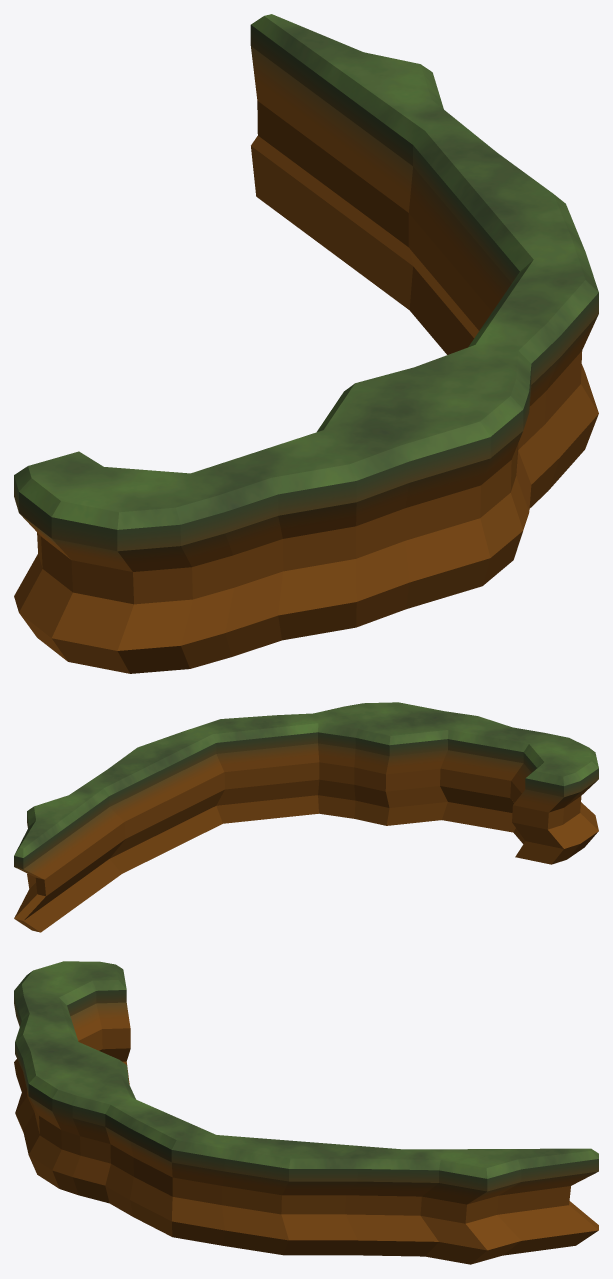
File: E7_Terreno_Lvl1_T.fbx
3 renders of one model, top to bottom at view 1: azimuth 30°, elevation 25°; view 2: azimuth 150°, elevation 25°; view 3: azimuth 270°, elevation 25°, orthographic. The views are drawn at different scales.
Visible parts, largest first — view 1: E7_modelosBlockout_nivel1; view 2: E7_modelosBlockout_nivel1; view 3: E7_modelosBlockout_nivel1.
Boxes of the visible parts, bbox=[...] form: E7_modelosBlockout_nivel1: bbox=[14, 14, 598, 673]; E7_modelosBlockout_nivel1: bbox=[14, 702, 598, 932]; E7_modelosBlockout_nivel1: bbox=[14, 961, 598, 1264].
Bounding box in the file's own units: 12938 × 2770 × 14954.
